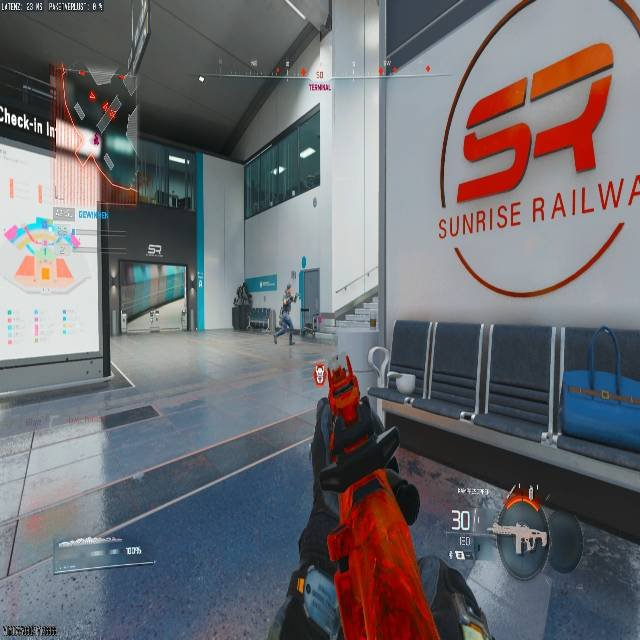head: (285, 284, 293, 294)
player: (272, 284, 299, 345), (232, 283, 254, 329)
